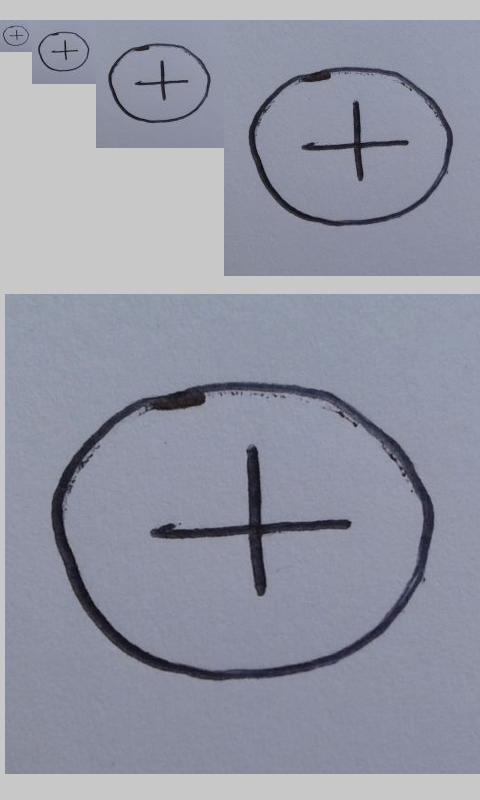button: (50, 378, 436, 685), (249, 66, 453, 226), (108, 43, 212, 123), (38, 31, 90, 72), (2, 25, 30, 46)
